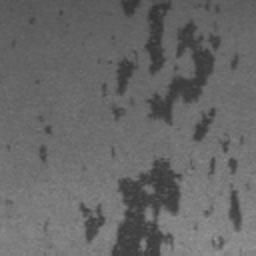Red iron sheet: (79, 0, 242, 256), (35, 113, 52, 161), (110, 146, 118, 159), (27, 17, 37, 26), (31, 78, 42, 86), (9, 38, 17, 47), (5, 198, 13, 206), (58, 8, 65, 17), (5, 143, 12, 151)
